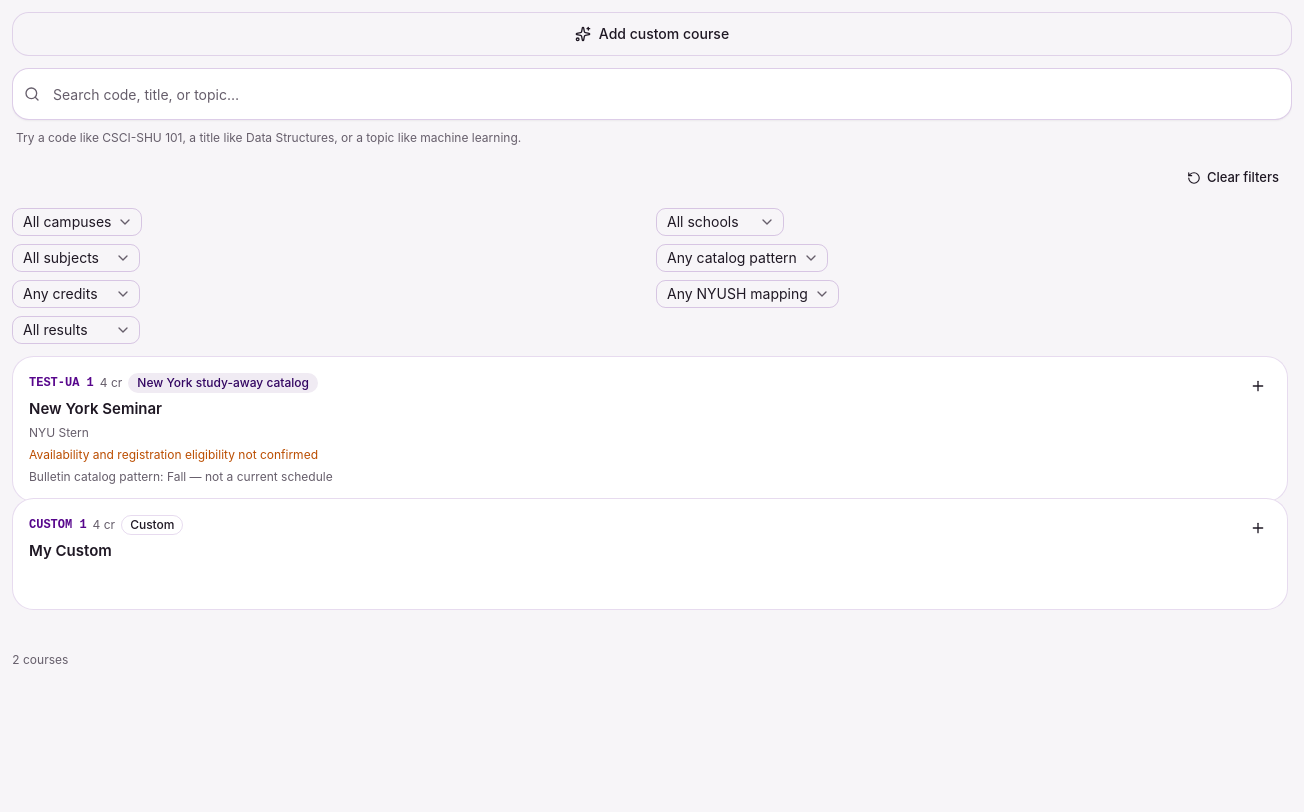
Test: CourseCatalog › keeps custom-course filtering local
Click the dropdown named "Local filter": (76, 330) x1=12 y1=316 x2=140 y2=344
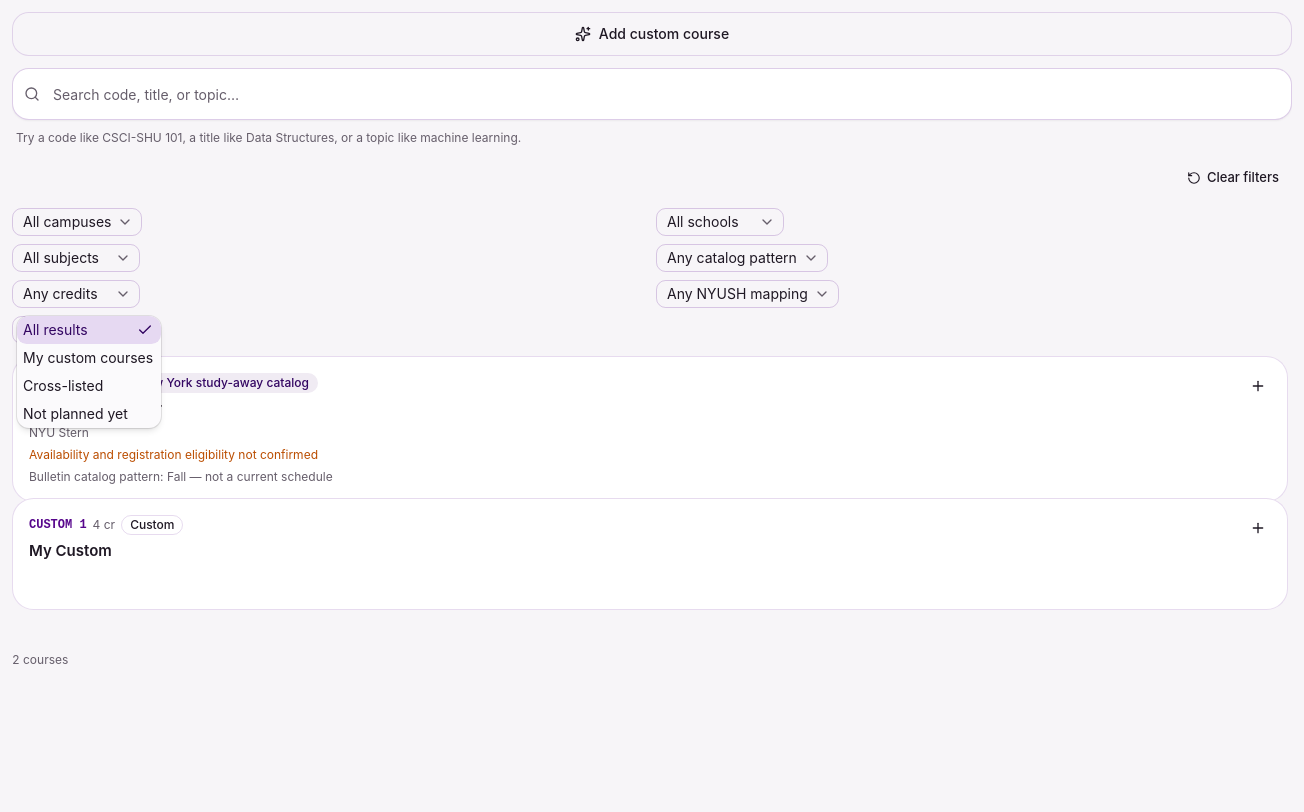
Click the option "My custom courses": (89, 358) x1=17 y1=344 x2=161 y2=372
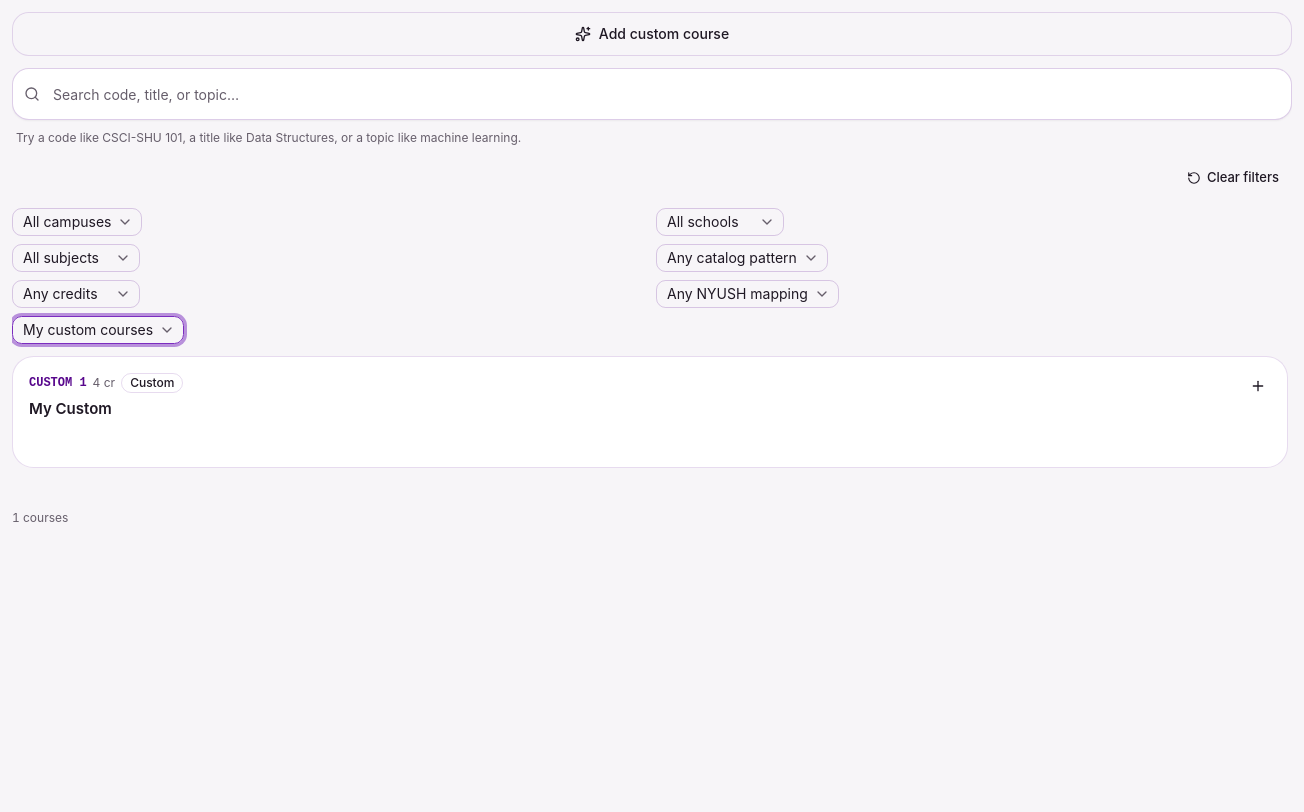
Result: the heading "My Custom" is shown at x1=29 y1=398 x2=112 y2=418
Result: the button "New York Seminar" is gone
